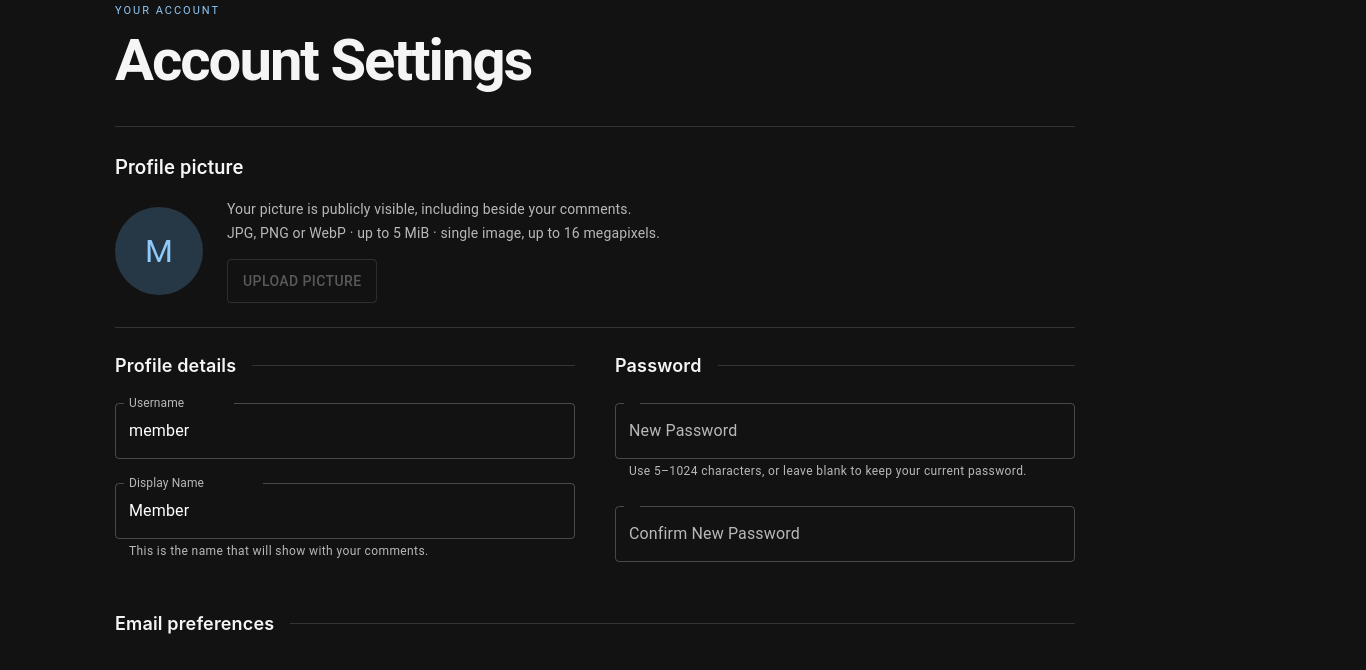
Test: groups account identity and password separately without a surrounding panel
Check: the field labelled "Username" is shown, box [115, 403, 575, 459]
Replace the text in the field labelled "Display Name" with "Updated" at (345, 511), box [115, 483, 575, 539]
(page scrolled)
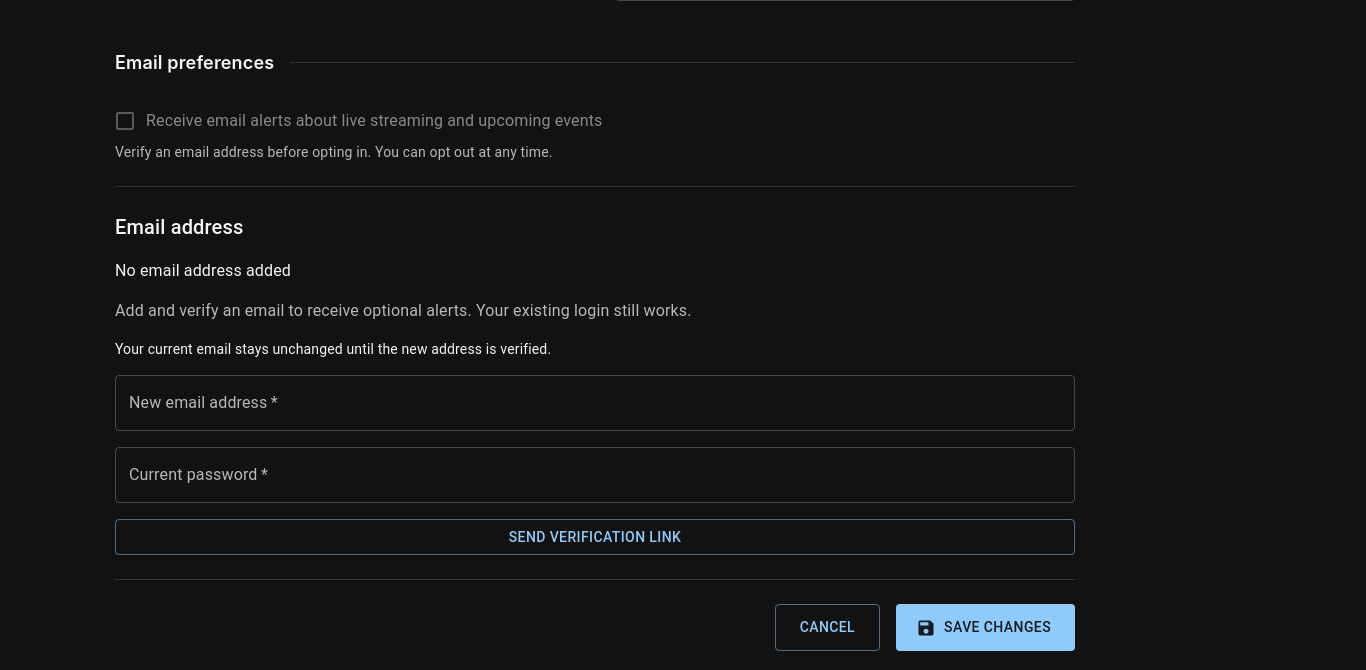
Click the button "Save Changes" at (986, 628), box [896, 604, 1075, 651]
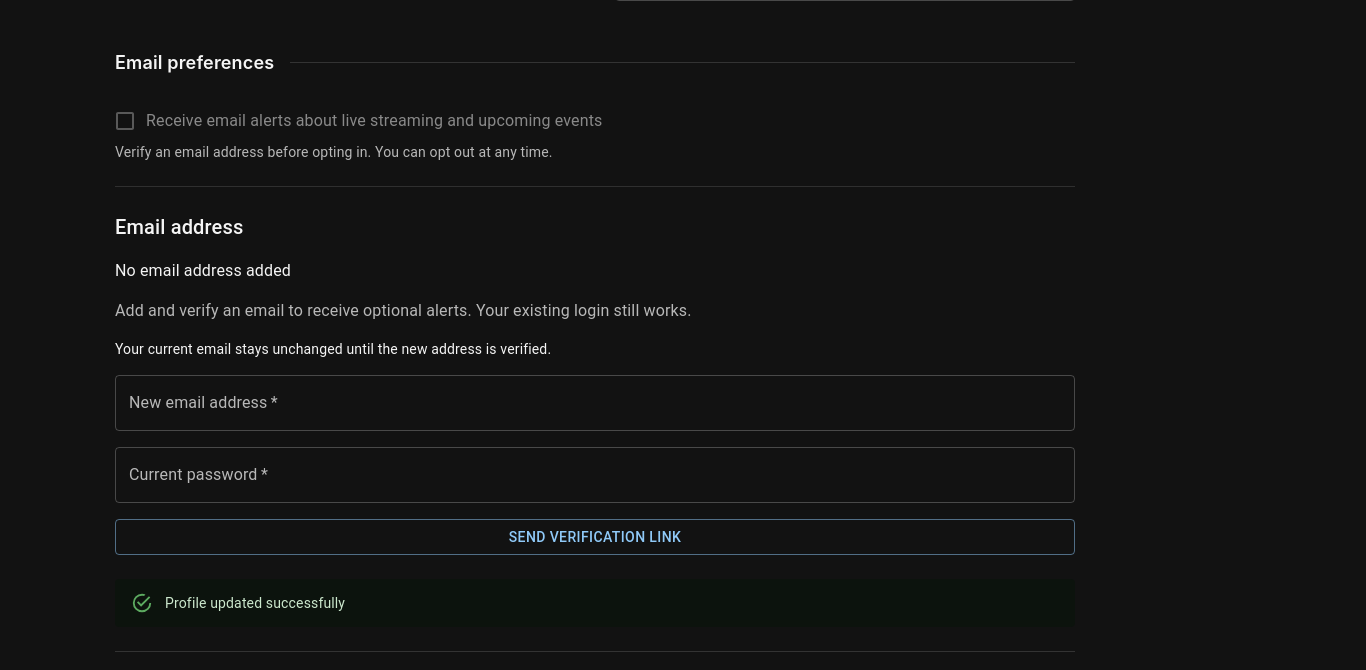
Check: the text "Profile updated successfully" is shown, box [165, 595, 345, 611]
